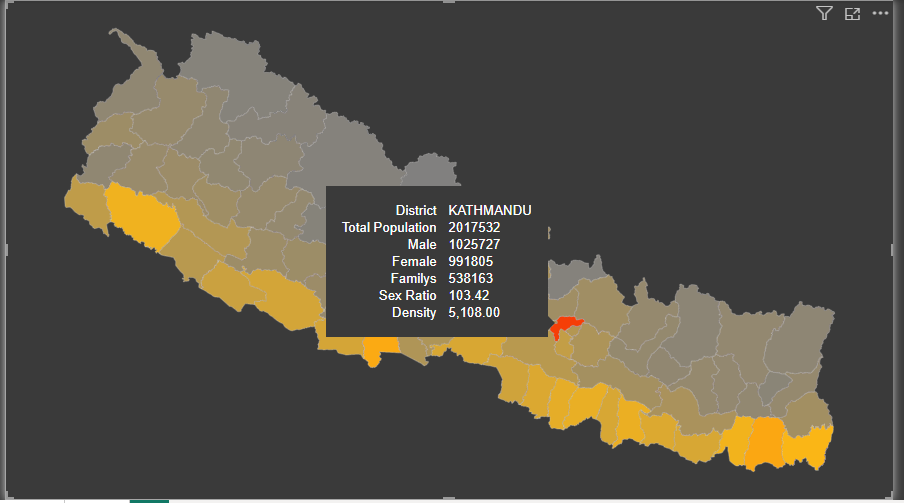

The page's visual inventory and layout, read from the dashboard file:
{"tool":"powerbi","page":{"name":"Map","canvas":[1280,720],"ordinal":1},"visuals":[{"type":"shapeMap","fields":{"Category":["DistrictDetails.District"],"Value":["Sum(DistrictDetails.Total Population 2021)"]},"box":[0,0,1280.5,720],"z":0}]}

Visuals, with their boxes in screenshot pixels (x1, y1, x2, y2), scaled from the page's 1280x720 canvas onto the 904x503 screenshot:
shapeMap - DistrictDetails.District x Sum(DistrictDetails.Total Population 2021): x1=0, y1=0, x2=903, y2=502
